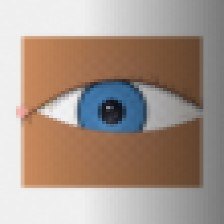pinguecula_lesion: (18, 85, 65, 122)
